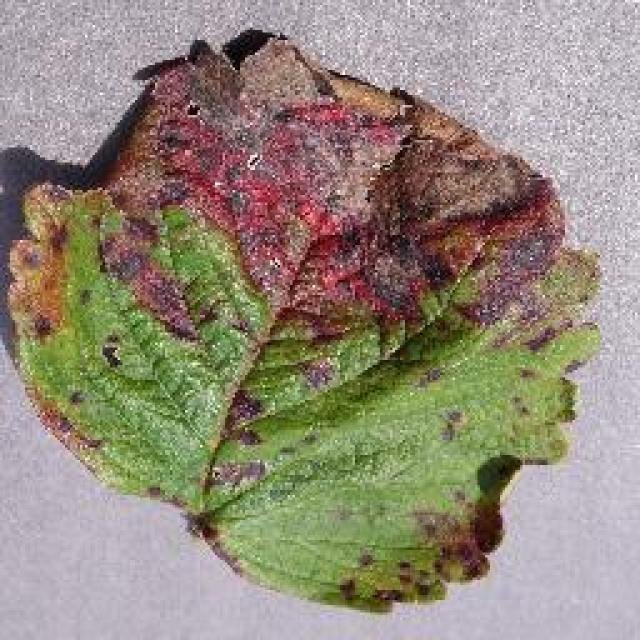Strawberry leaf scorch: (157, 65, 458, 512), (158, 60, 160, 63)
